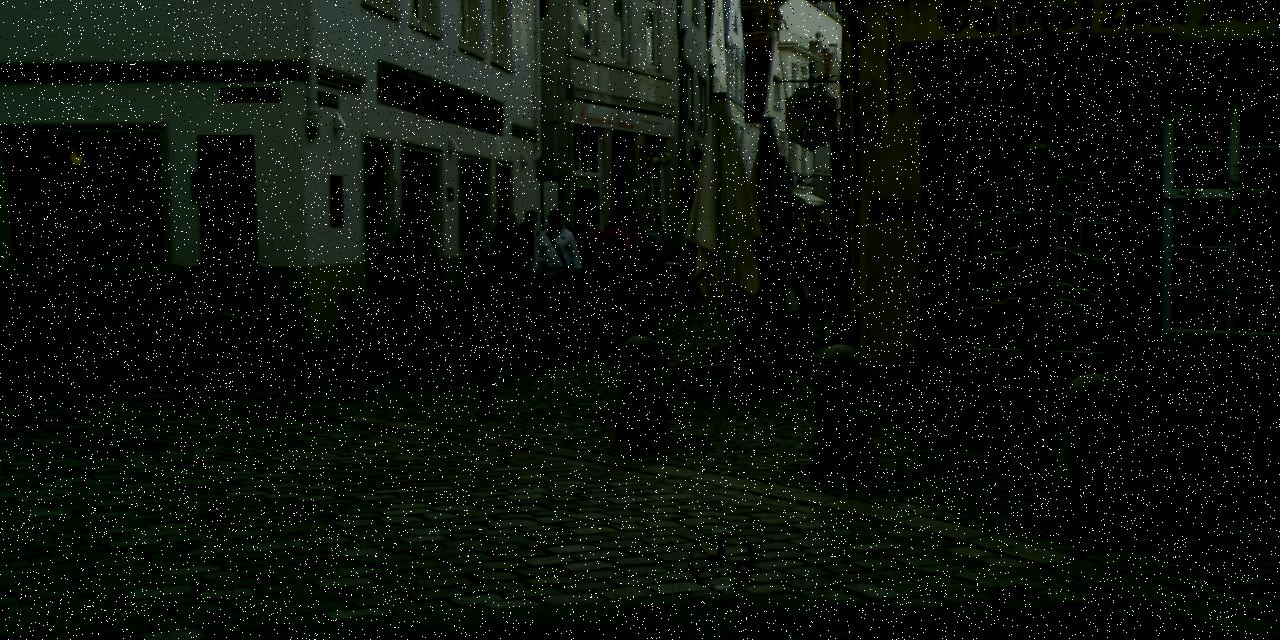ped: (604, 210, 658, 342), (588, 208, 641, 338), (528, 209, 580, 336), (552, 212, 598, 325), (507, 210, 549, 315), (638, 220, 672, 307), (714, 228, 748, 308), (800, 226, 832, 307), (501, 257, 533, 336), (773, 235, 804, 310), (580, 264, 610, 337), (793, 228, 815, 282), (821, 221, 839, 243)
